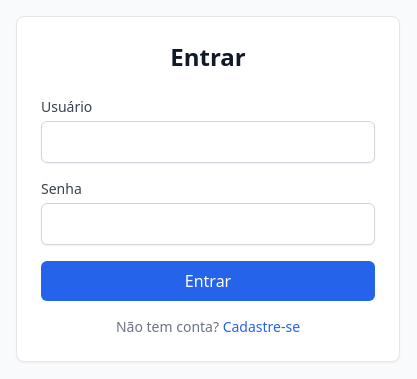
Test: LoginPage › exibe formulário TOTP quando 2FA está ativo
The width and height of the screenshot is (417, 379).
Type "joao" into the field labelled "Usuário". click: (208, 142)
box: x1=41 y1=121 x2=375 y2=163
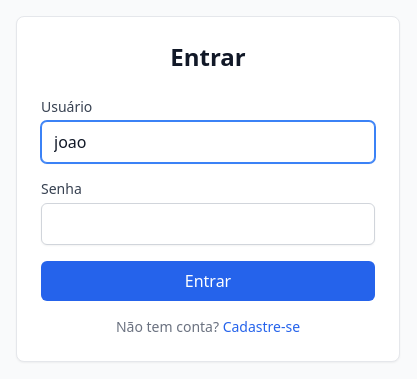
Type "senha123" into the password field labelled "Senha". click: (208, 224)
box: x1=41 y1=203 x2=375 y2=245
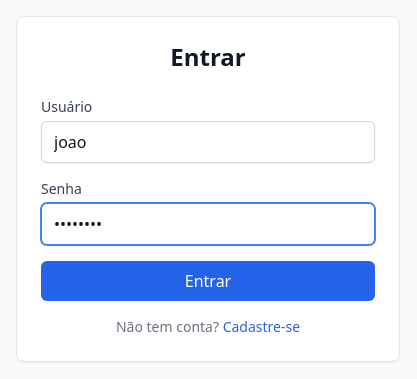
Click the button "Entrar". click: (208, 281)
box: x1=41 y1=261 x2=375 y2=301
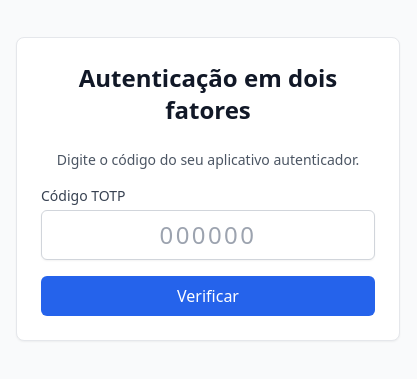
Result: the heading "Autenticação em dois fatores" is shown at x1=79 y1=61 x2=337 y2=126
Result: the field labelled "Código TOTP" is shown at x1=41 y1=210 x2=375 y2=260
